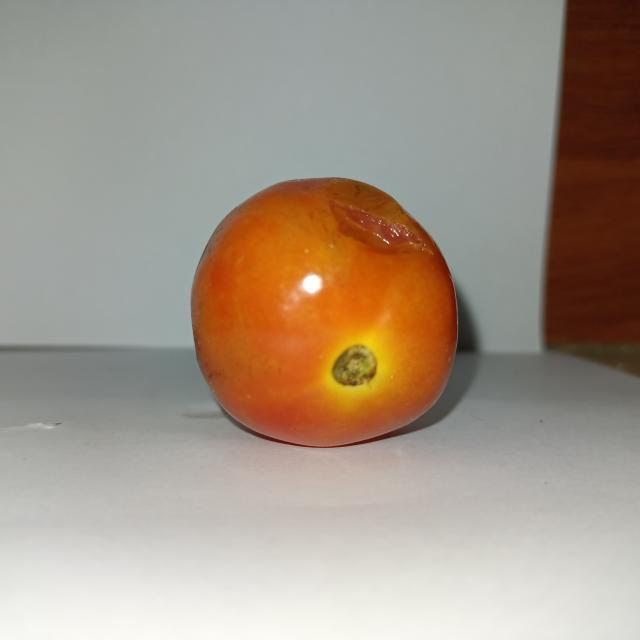Red: (189, 175, 459, 448)
